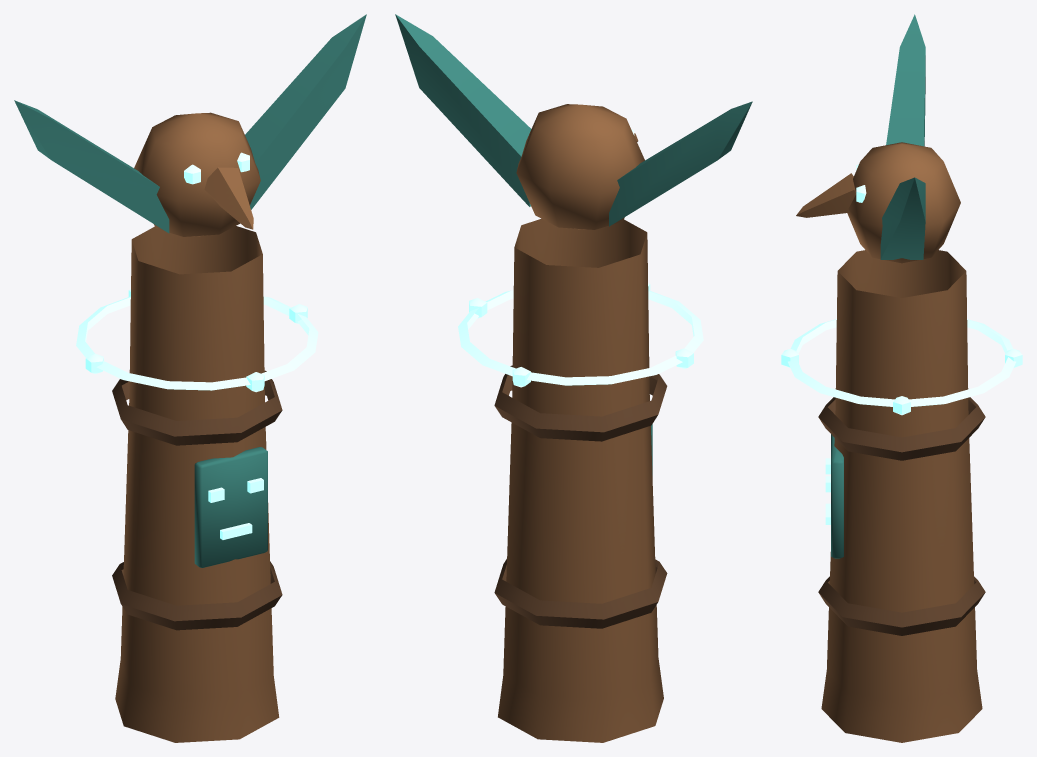
File: totem-storm.glb
3 views of the same model, side by side, from view 1: azimuth 30°, elevation 25°; view 2: azimuth 150°, elevation 25°; view 3: azimuth 270°, elevation 25° (orthographic). The views are drawn at different scales.
Visible parts, largest first — view 1: body, head, ring, glow_eyes; view 2: body, head, ring; view 3: body, head, ring, glow_eyes.
Part boxes in pixels (x1,y1,x2,y2): body: (112, 226, 282, 742); head: (14, 14, 366, 236); ring: (76, 289, 318, 392); glow_eyes: (184, 152, 263, 539); body: (494, 218, 667, 742); head: (395, 14, 752, 229); ring: (458, 283, 703, 387); body: (818, 250, 985, 742); head: (796, 14, 960, 263); ring: (781, 319, 1022, 415); glow_eyes: (825, 164, 866, 524).
Size of the model in its own units: 0.36 by 0.63 by 0.2245.
